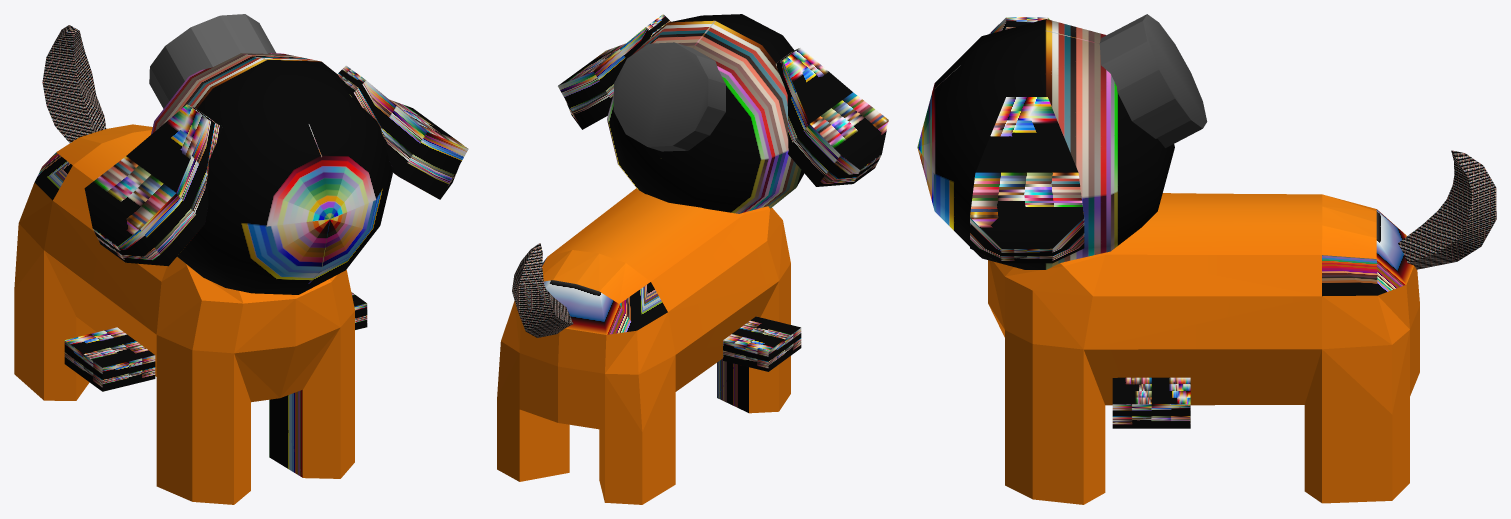
Rendered from VE_AnimalBike_DogCollider.FBX.
The picture shows the model from 3 angles, left to right: view 1: azimuth 30°, elevation 25°; view 2: azimuth 150°, elevation 25°; view 3: azimuth 270°, elevation 25°; orthographic projection. The views are drawn at different scales.
Visible parts, largest first — view 1: BT_ VehiclePuppyCollider; view 2: BT_ VehiclePuppyCollider; view 3: BT_ VehiclePuppyCollider.
Boxes of the visible parts, left/top/right/bottom form: BT_ VehiclePuppyCollider: left=14, top=14, right=468, bottom=504; BT_ VehiclePuppyCollider: left=497, top=14, right=888, bottom=504; BT_ VehiclePuppyCollider: left=917, top=14, right=1496, bottom=504.
Size of the model in its own units: 76.61 by 91.24 by 109.
